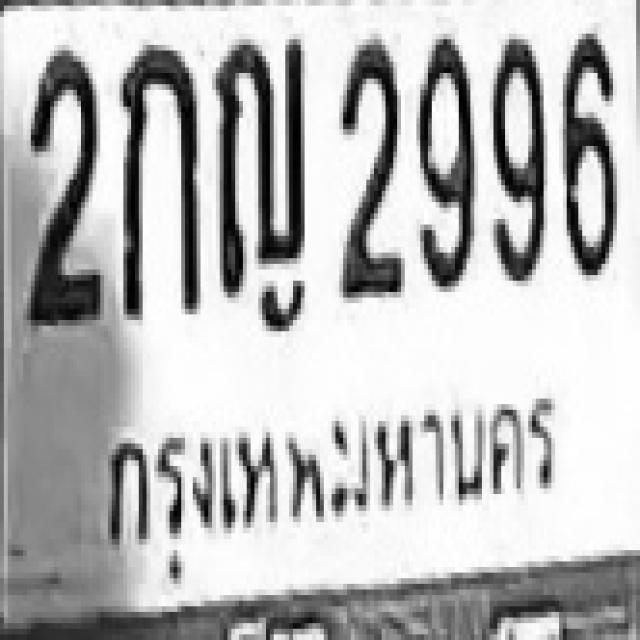10GorGai: (118, 42, 198, 317)
2: (27, 45, 100, 326), (335, 34, 401, 298)
22YorYing: (212, 34, 305, 298)
6: (559, 31, 613, 278)
9: (415, 34, 476, 286), (489, 34, 544, 280)
Bangkok: (78, 370, 578, 584)
